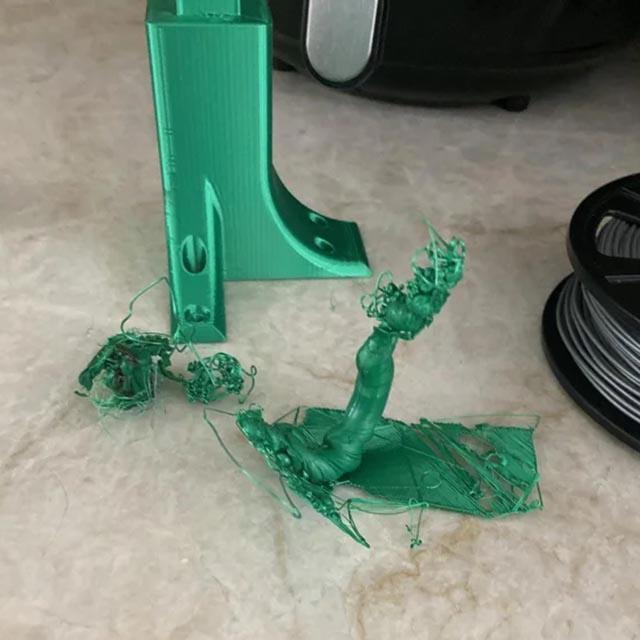Spaghetti: (203, 398, 435, 548), (66, 266, 262, 421), (358, 221, 477, 342)
